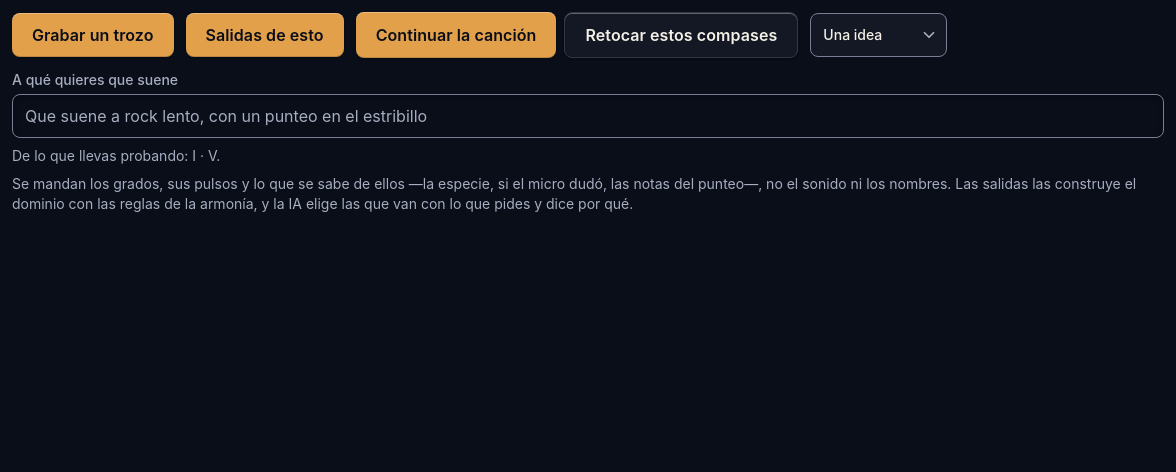
it: lo que se enseña › si las eligió el dominio porque el modelo no dio nada, lo dice
This screenshot has width=1176, height=472.
Click the button "Salidas de esto" at point(265, 35), box [186,13,344,57]
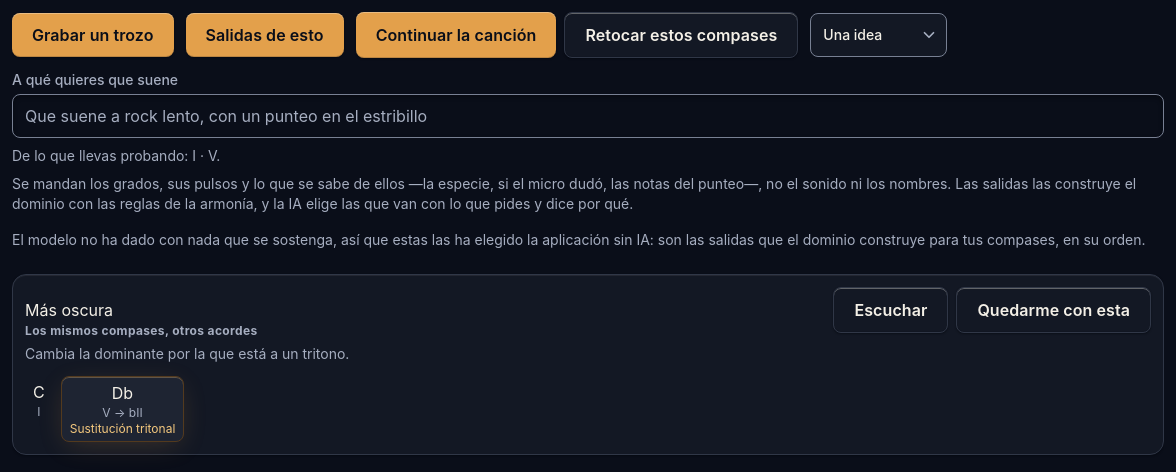
Expected: the text "no ha dado con nada que se sostenga" is shown, [12,231,428,248]
